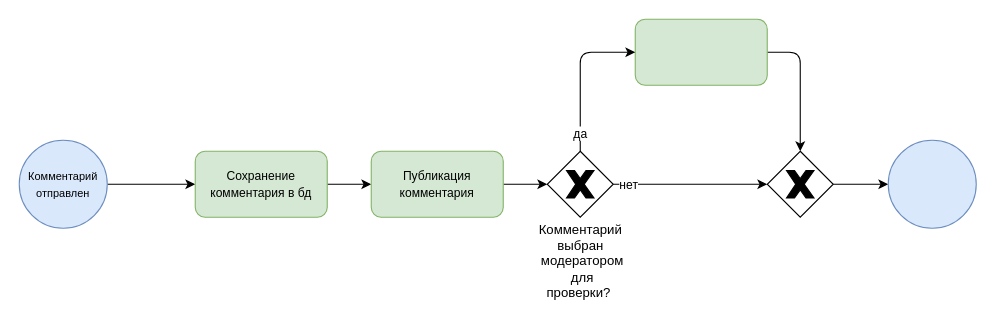
This 996x320 diagram has some shape labels left out. The centre of each missing label's shape, as x and y in pixels:
Завершение модерации: (x=931, y=183)
Проверка и/или модерация комментария: (x=700, y=51)
